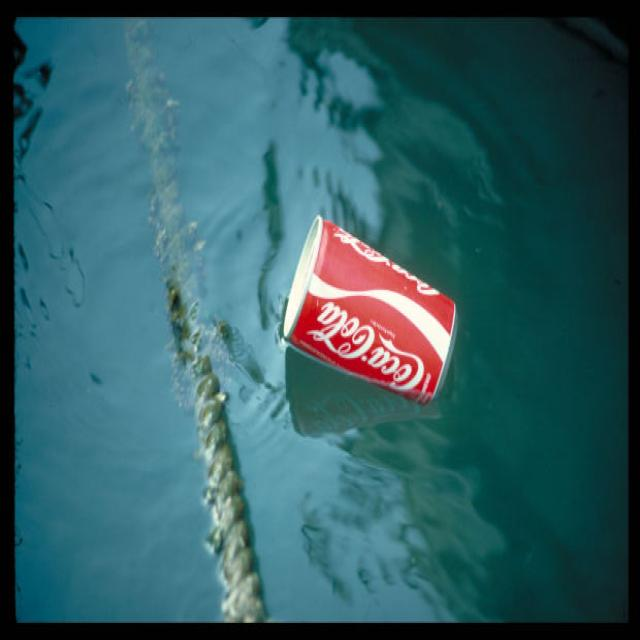metal: (290, 212, 450, 388)
